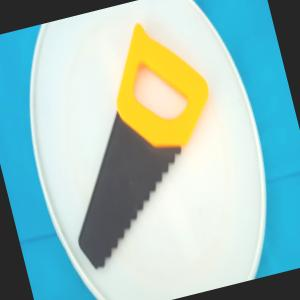serrote: (27, 7, 244, 272)
